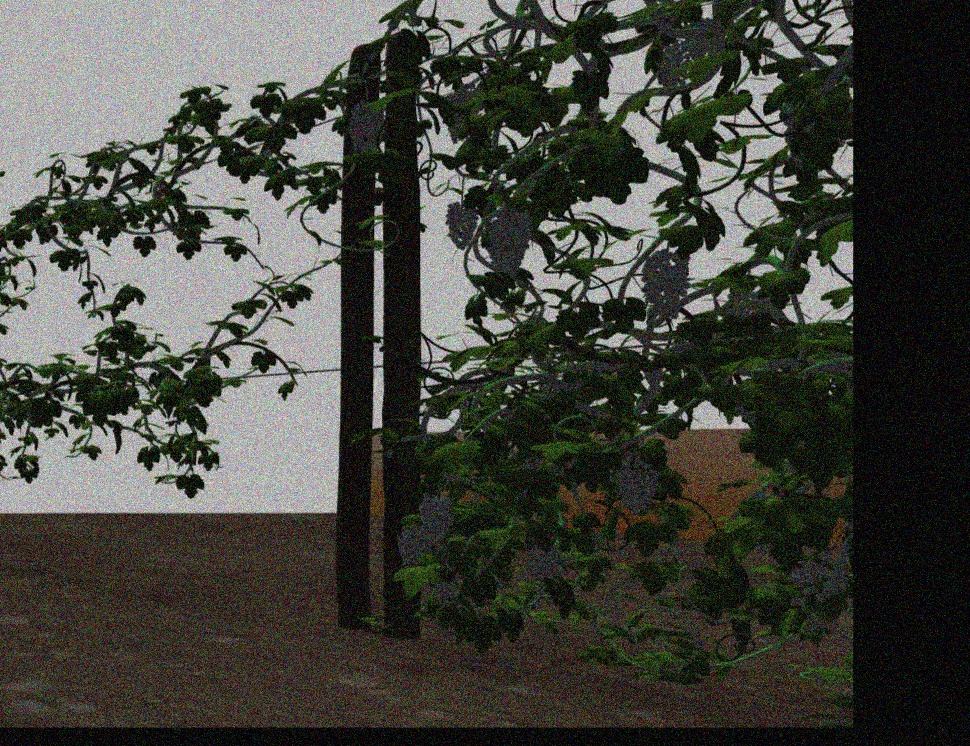grape: (641, 249, 691, 321), (488, 205, 532, 279), (612, 451, 660, 516), (793, 559, 847, 600), (347, 101, 385, 154), (654, 41, 695, 86), (526, 539, 564, 587), (443, 201, 479, 249), (419, 494, 454, 541), (397, 529, 432, 568)
